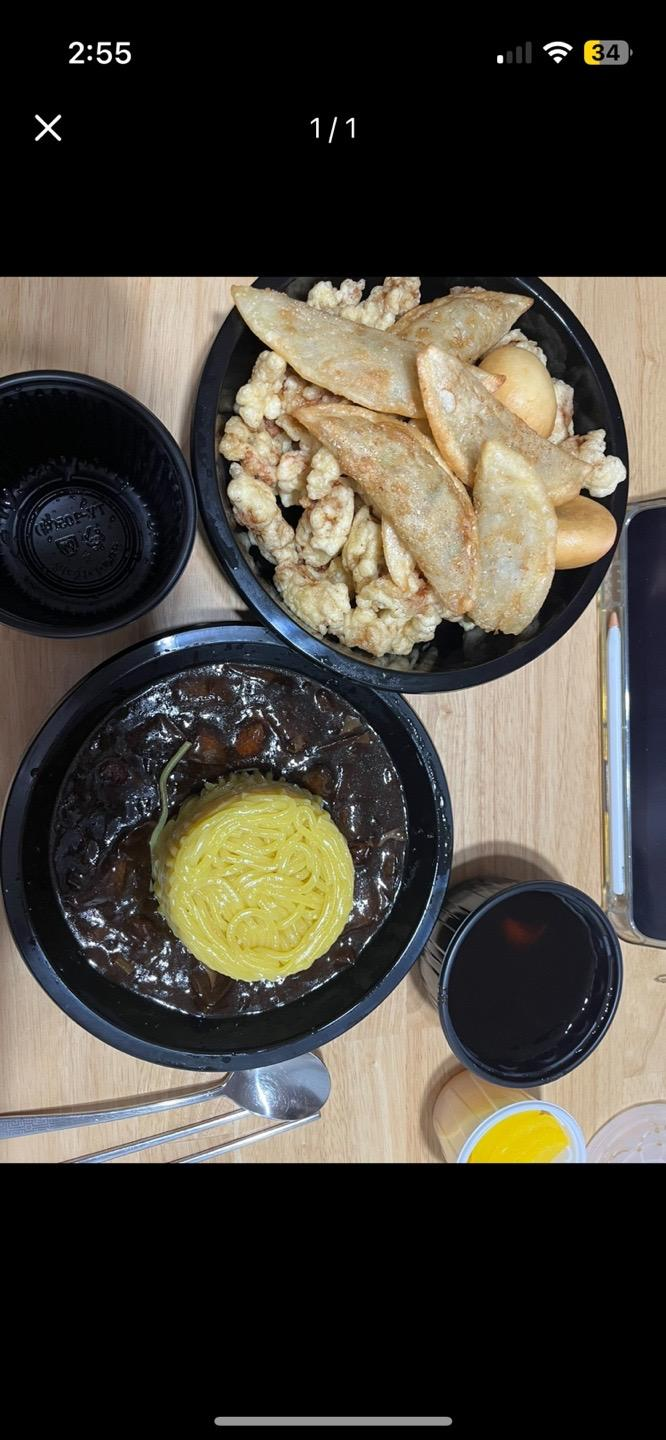Lunch Box: (0, 625, 452, 1069), (191, 277, 627, 692)
cup: (0, 372, 196, 638), (420, 879, 622, 1088), (433, 1070, 665, 1162)
